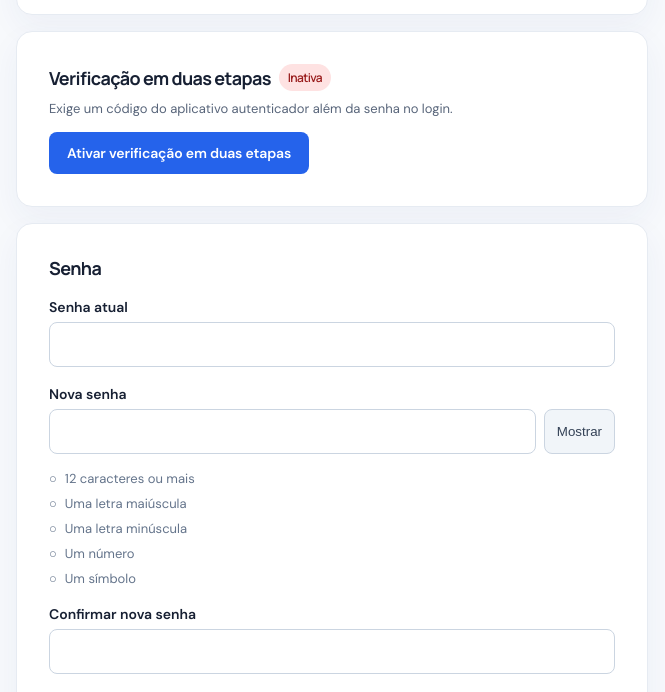
Test: changes the password with policy checks and clears the fields
This screenshot has width=665, height=692.
(page scrolled)
In the password field labelled "Senha atual": (332, 344) [49, 322, 615, 367], type "Old-password-1!"
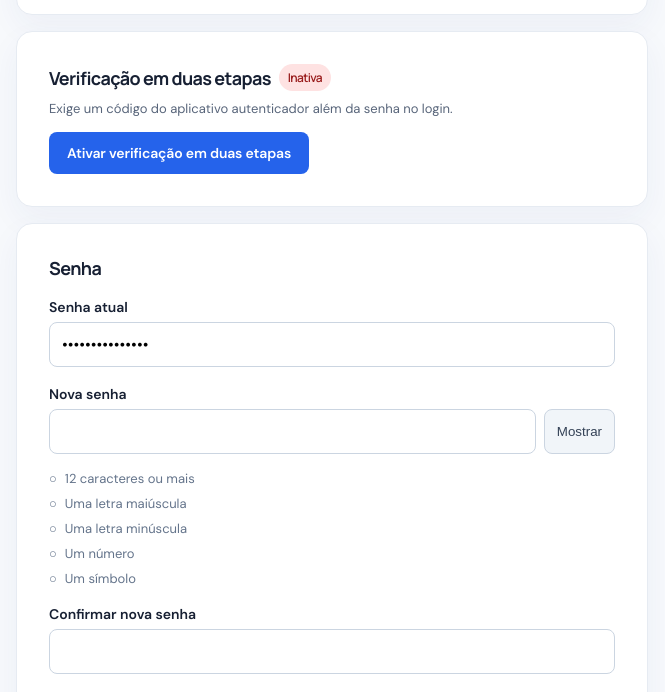
In the password field labelled "Nova senha": (292, 432) [49, 409, 536, 454], type "Old-password-1!"
(page scrolled)
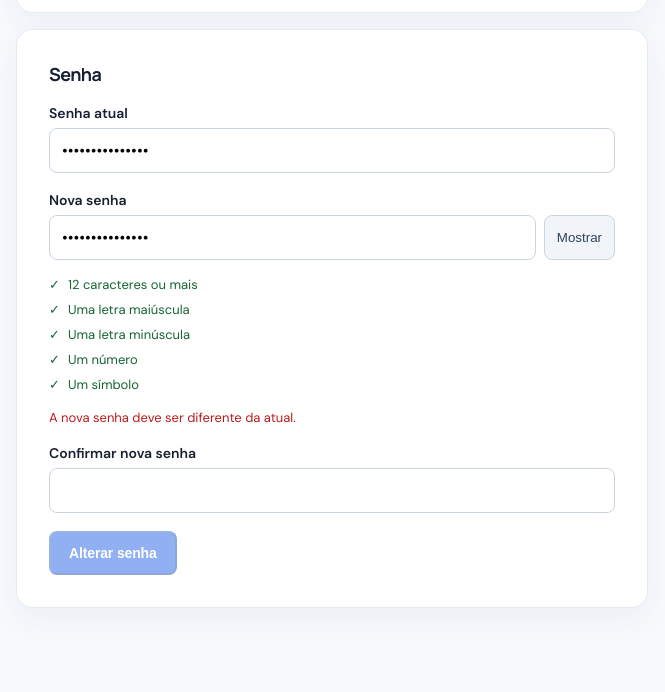
In the password field labelled "Confirmar nova senha": (332, 490) [49, 468, 615, 513], type "Old-password-1!"
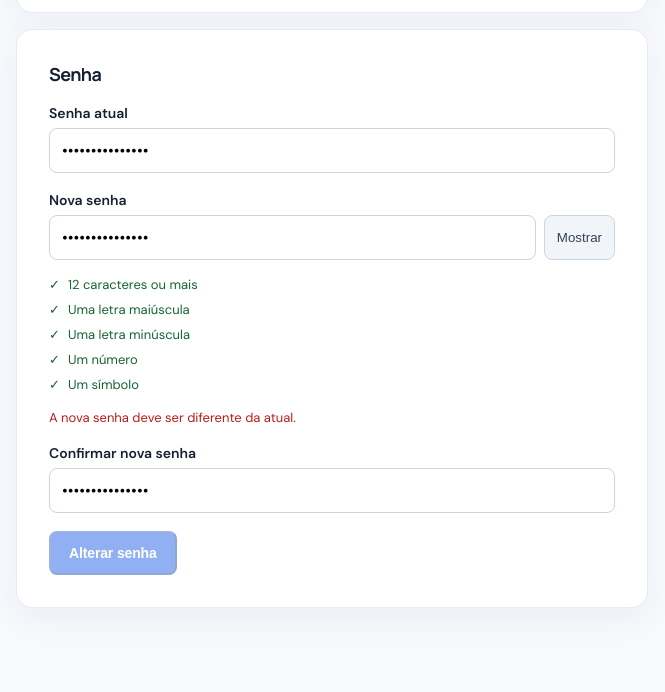
Expected: the button "Alterar senha" is disabled, [49, 531, 177, 575]
Now the text "A nova senha deve ser diferente da atual." is shown, box [49, 409, 296, 426]
In the password field labelled "Nova senha": (292, 238) [49, 215, 536, 260], type "New-password-2!"
(page scrolled)
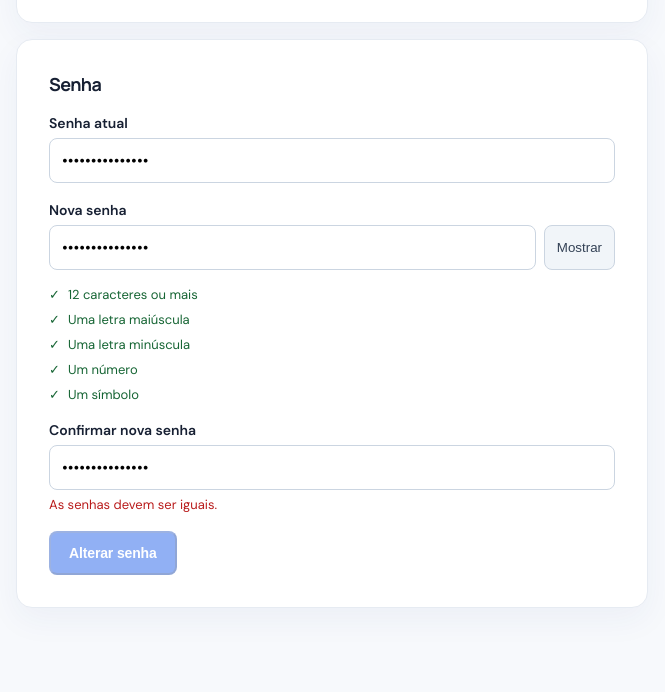
In the password field labelled "Confirmar nova senha": (332, 468) [49, 445, 615, 490], type "New-password-2!"
(page scrolled)
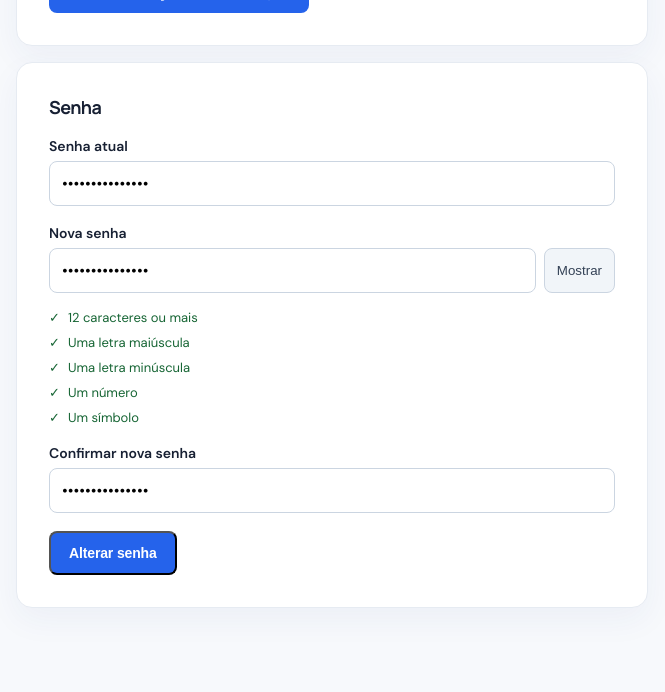
Click the button "Alterar senha": (113, 553) [49, 531, 177, 575]
(page scrolled)
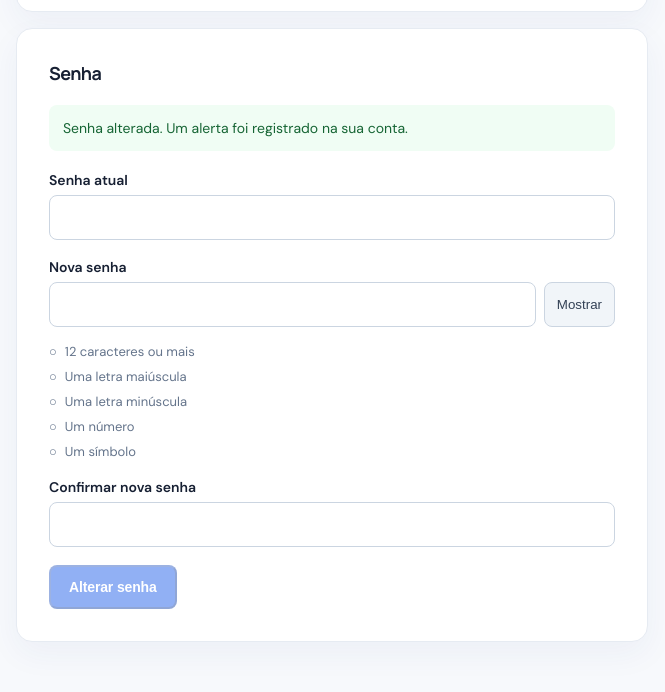
Now the text "Senha alterada. Um alerta foi registrado na sua conta." is shown, box [49, 105, 615, 151]
Now the password field labelled "Senha atual" is empty, box [49, 195, 615, 240]
